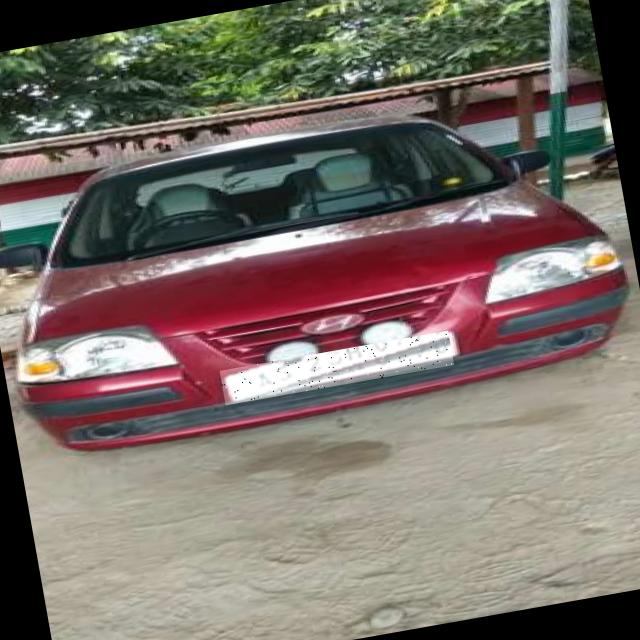Plate: (221, 331, 456, 406)
